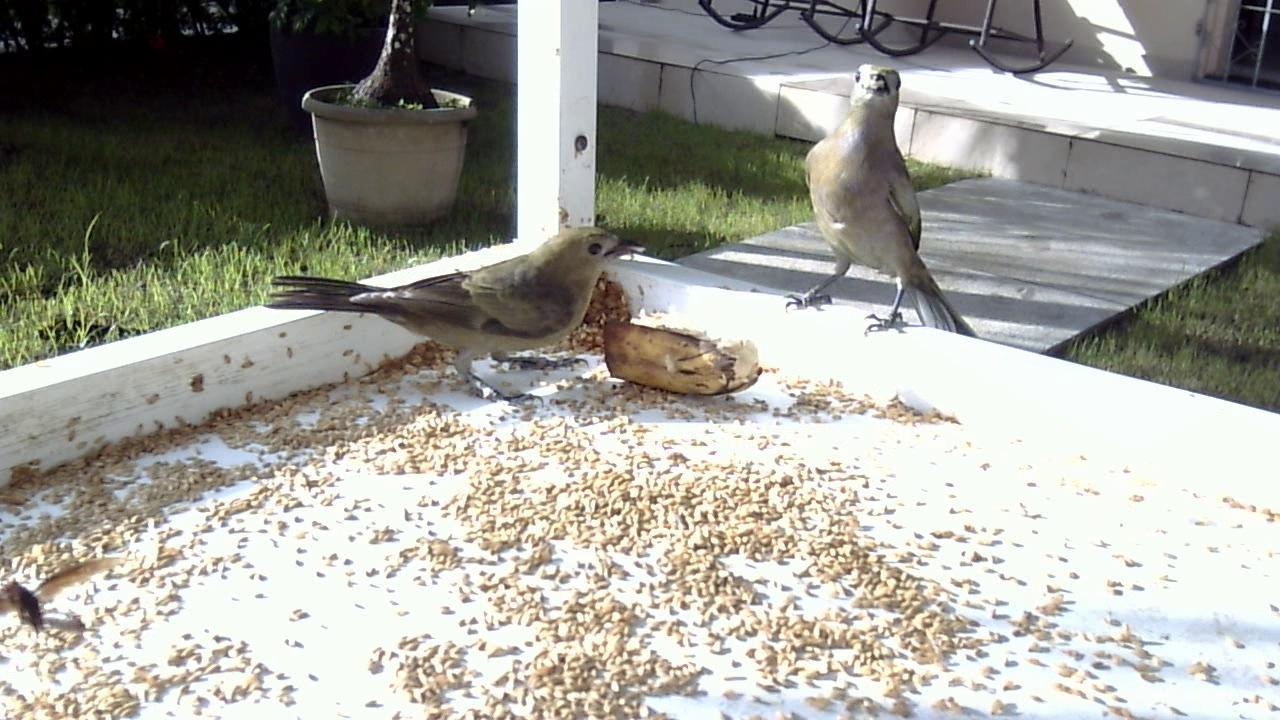sanhaco_do_coqueiro: (267, 215, 641, 417), (772, 55, 985, 345)
